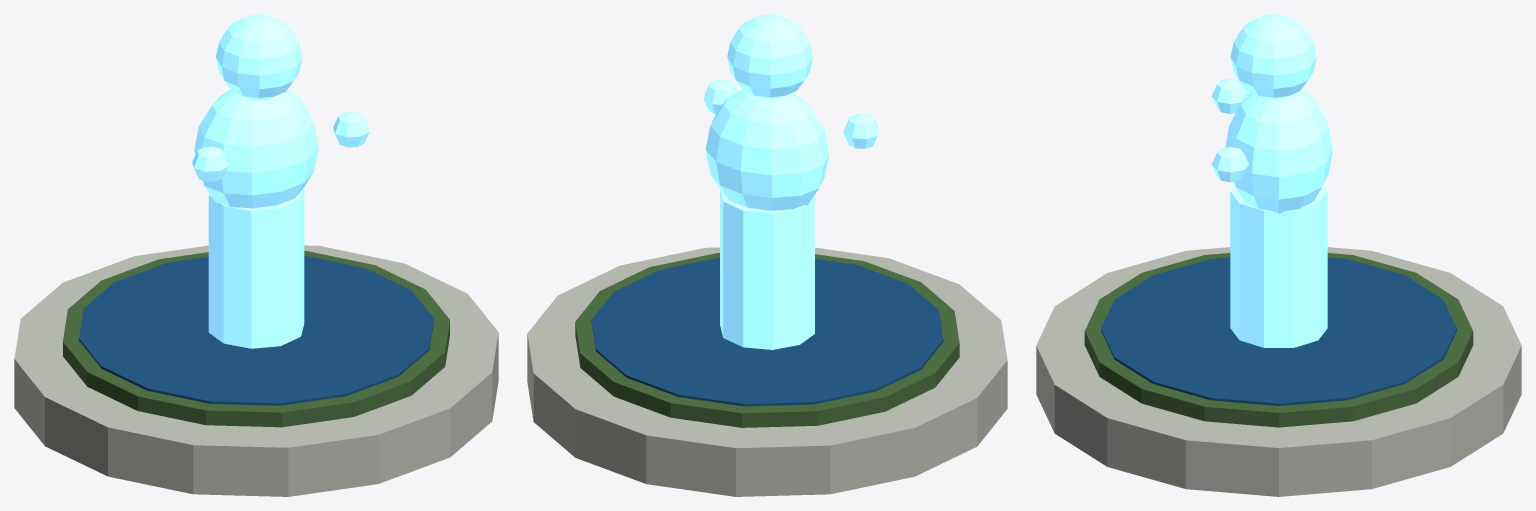
Rendered from elf_water_spirit.glb.
The picture shows the model from 3 angles, left to right: view 1: azimuth 30°, elevation 25°; view 2: azimuth 150°, elevation 25°; view 3: azimuth 270°, elevation 25°; orthographic projection.
Parts seen in each view (by area): view 1: Base, Pool, Tail, Rim, Torso, Head, HandL, HandR; view 2: Base, Pool, Tail, Rim, Torso, Head, HandL, HandR; view 3: Base, Pool, Tail, Rim, Torso, Head, HandR, HandL.
Boxes of the visible parts, <box> form: Base: <box>14,245,498,496</box>; Pool: <box>79,255,433,405</box>; Tail: <box>208,187,304,348</box>; Rim: <box>63,251,449,427</box>; Torso: <box>194,89,318,208</box>; Head: <box>216,14,302,100</box>; HandL: <box>192,146,228,181</box>; HandR: <box>333,112,369,147</box>; Base: <box>527,247,1007,496</box>; Pool: <box>591,257,943,406</box>; Tail: <box>720,190,814,349</box>; Rim: <box>575,253,959,427</box>; Torso: <box>705,89,829,210</box>; Head: <box>727,14,812,98</box>; HandL: <box>843,114,879,148</box>; HandR: <box>703,80,738,114</box>; Base: <box>1036,247,1521,496</box>; Pool: <box>1101,257,1456,405</box>; Tail: <box>1230,186,1327,347</box>; Rim: <box>1084,253,1473,427</box>; Torso: <box>1225,89,1332,213</box>; Head: <box>1230,14,1316,99</box>; HandR: <box>1211,147,1249,182</box>; HandL: <box>1211,78,1247,113</box>.
Bounding box in the file's own units: 1.8 × 1.54 × 1.8.
